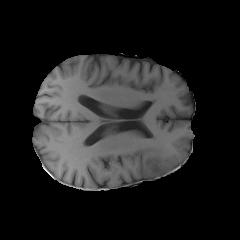glioma: (128, 136, 179, 177)
